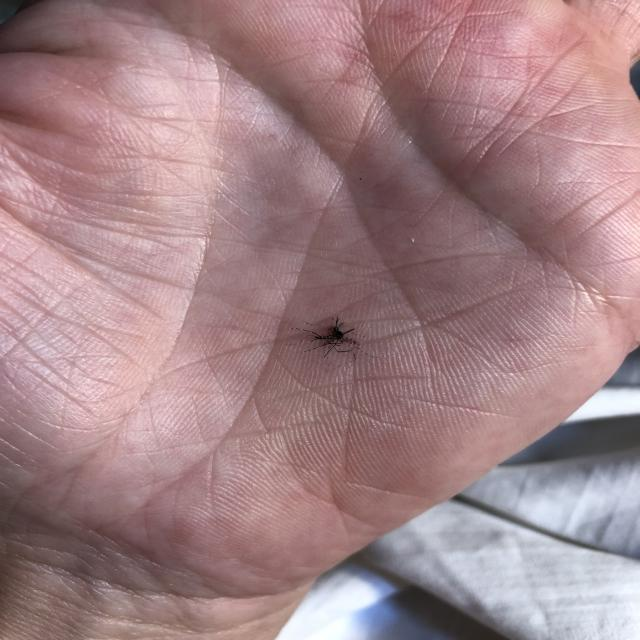albopictus: (286, 308, 374, 368)
